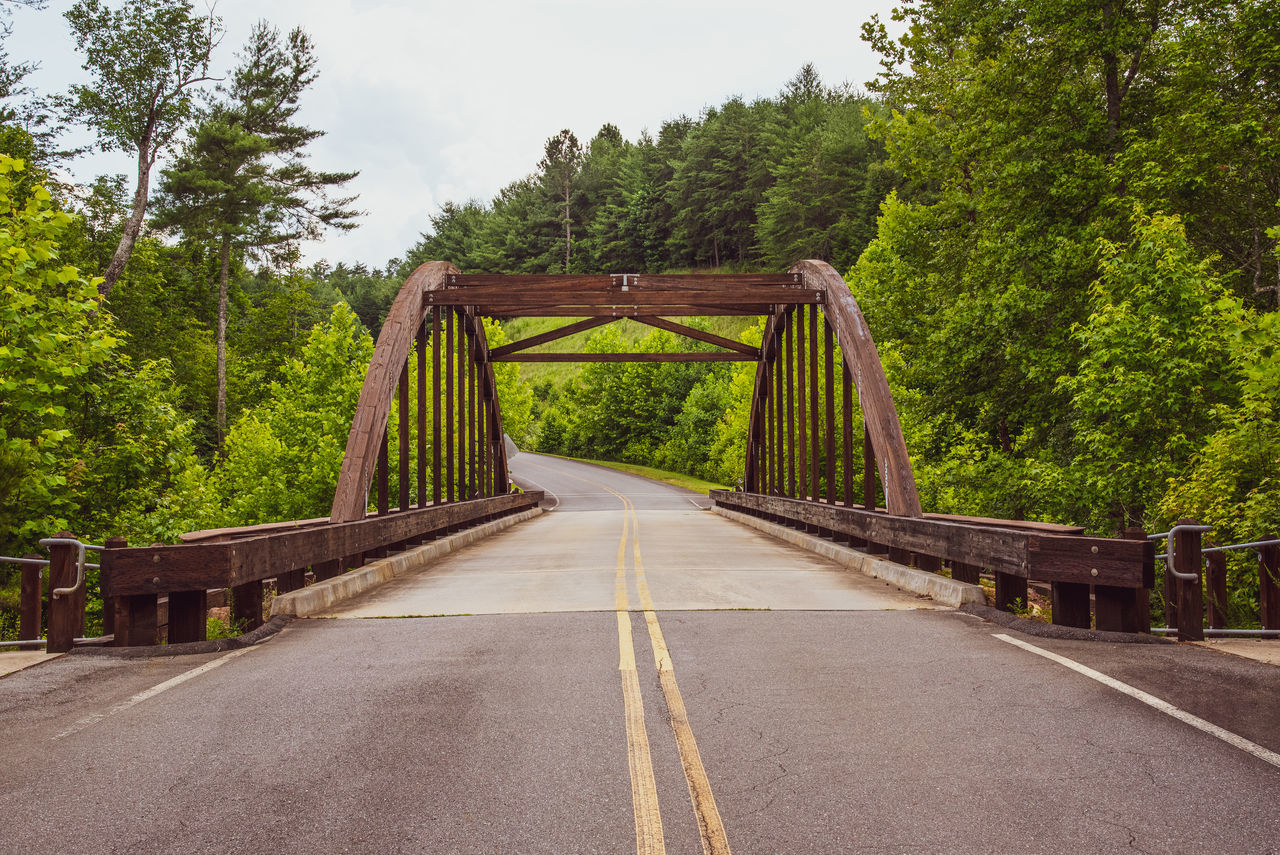bridge: (330, 257, 918, 557)
